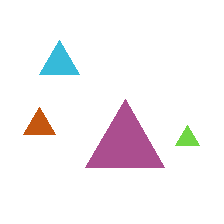triangle: (85, 99, 164, 167), (39, 40, 79, 74), (23, 107, 55, 134), (175, 125, 199, 145)
